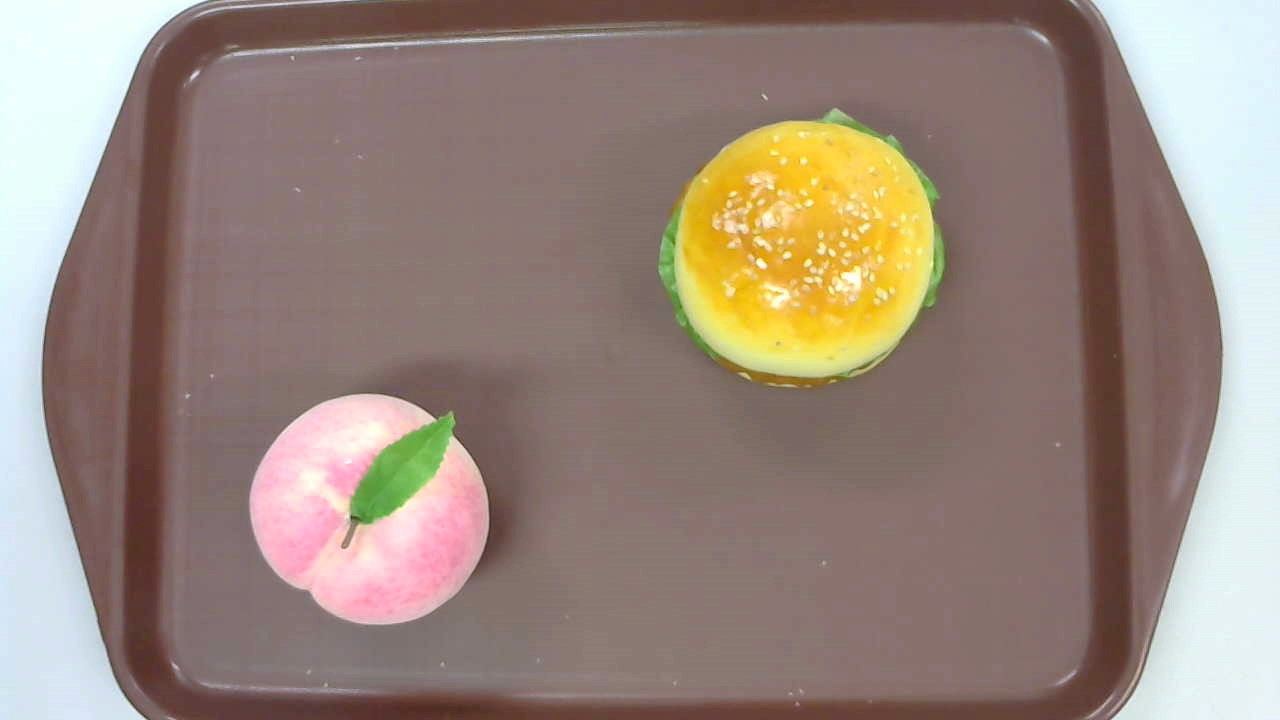hamburger: (653, 108, 947, 390)
peach: (249, 394, 491, 626)
